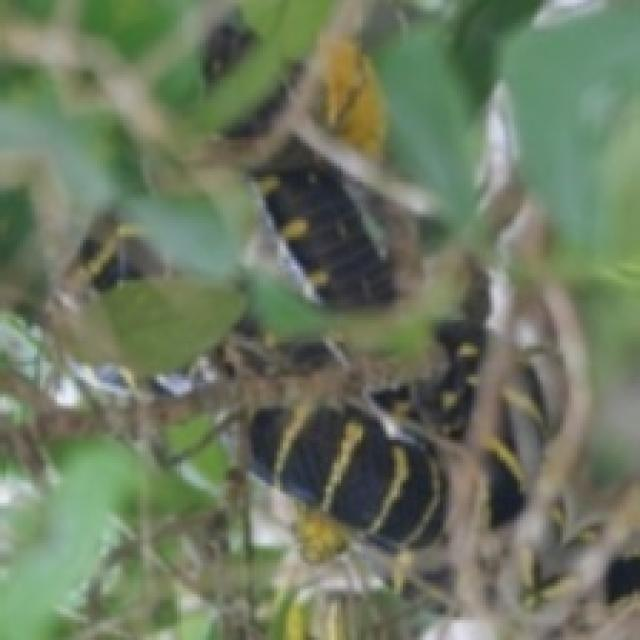mangrove cat snake: (250, 270, 492, 551), (257, 164, 398, 307), (481, 320, 554, 528)
